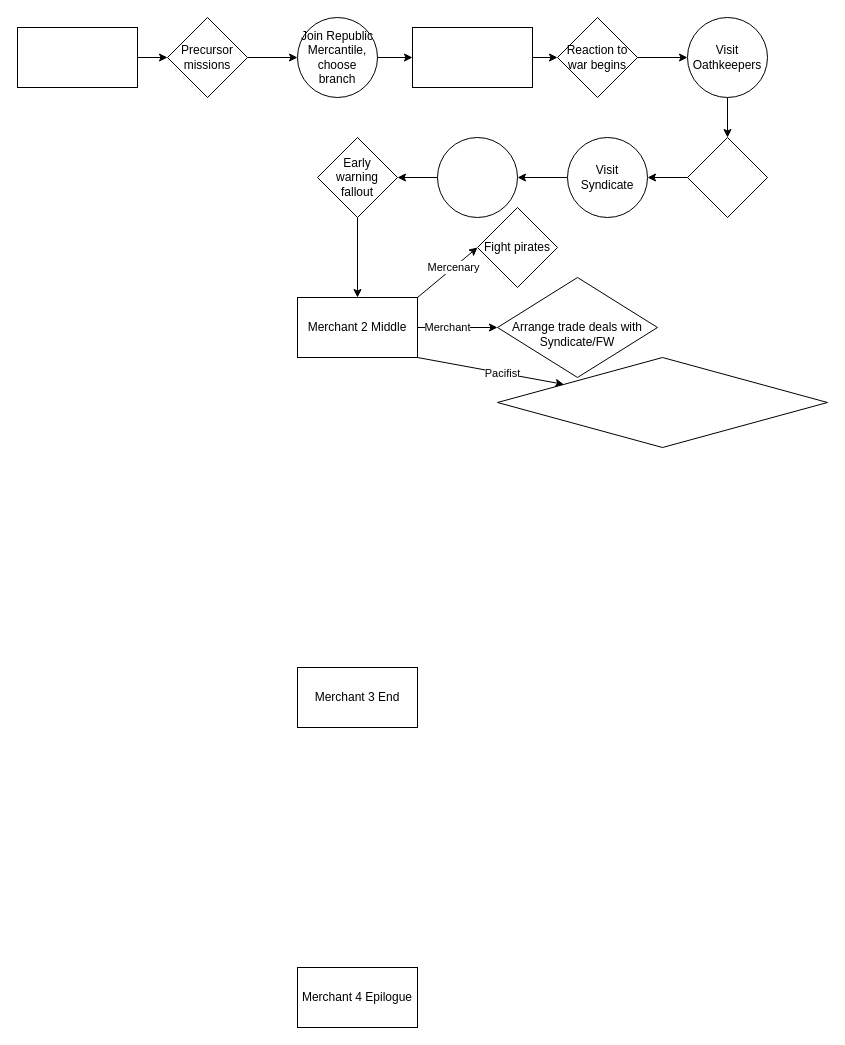
Image size: 845x1045. Some labels were removed from this diagram. The shapes that lost their labels are listed below. From the top down, each one's centre as x and y in pixels, then its label:
point 77,57: Merchant 0 Prologue
point 472,57: Merchant 1 Start
point 477,177: Syndicate tasks
point 727,177: Oathkeeper tasks
point 662,402: Rescue disabled merchants who just happen to be carrying nuclear materials
